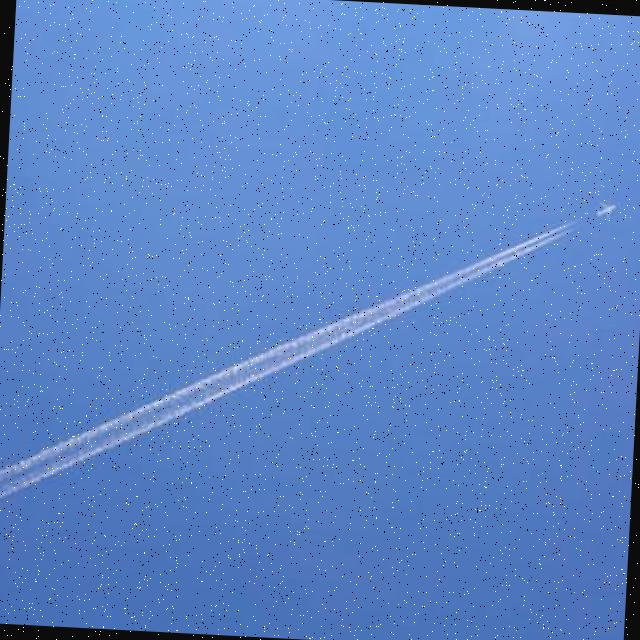Ct: (1, 74, 633, 601)
